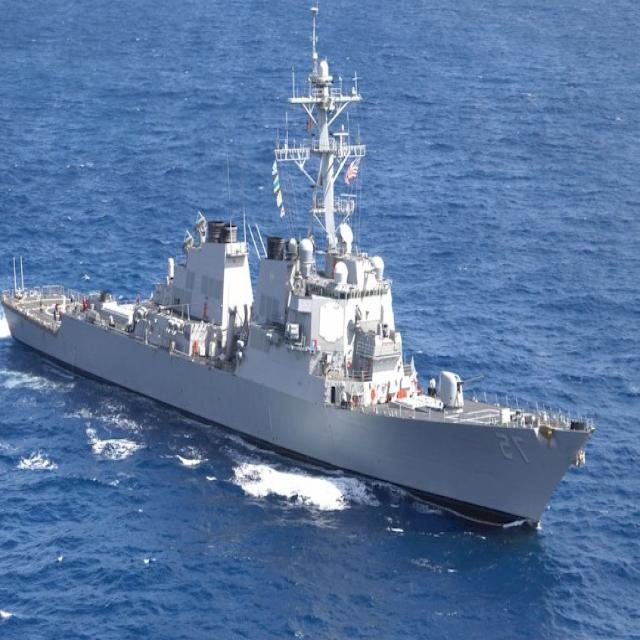navalvessels: (0, 22, 606, 530)
